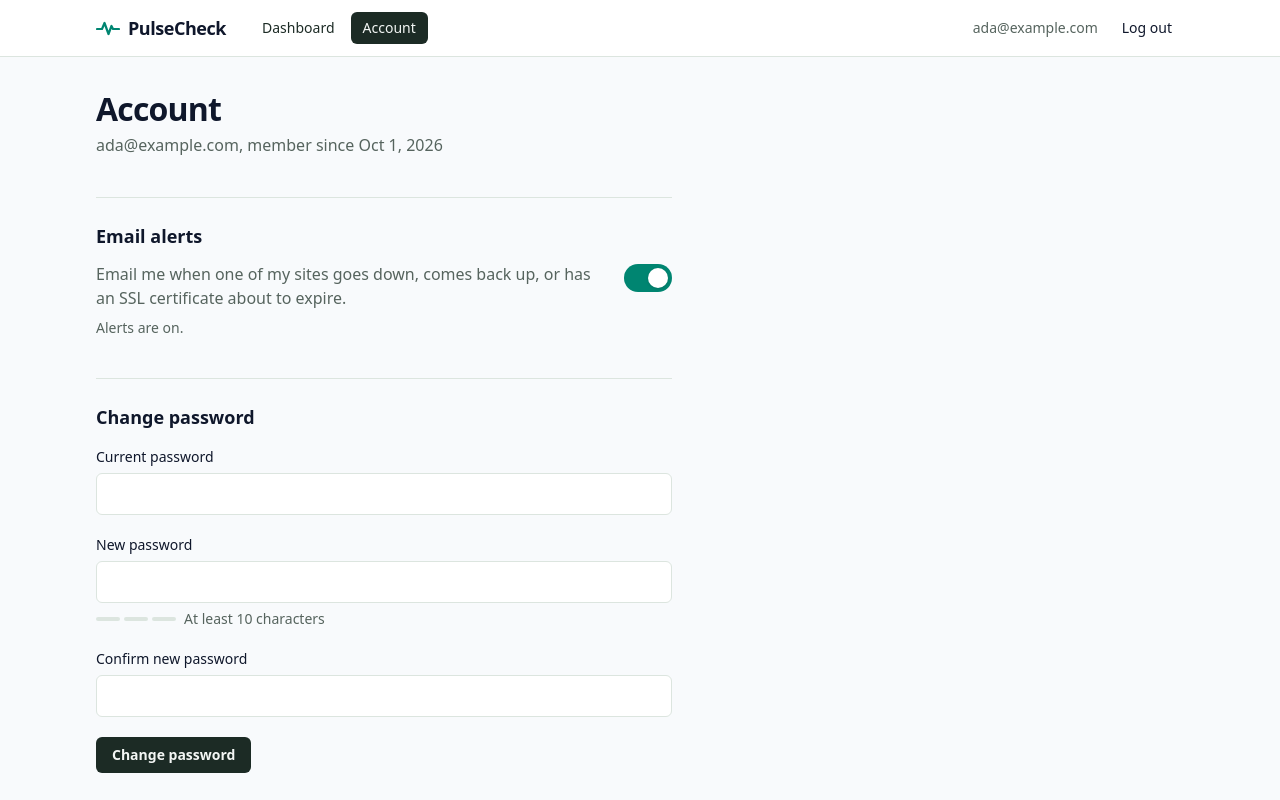
Test case: Account alerts › toggles email alerts
Click the switch named "Email alerts" at (648, 278), box x1=624 y1=264 x2=672 y2=292
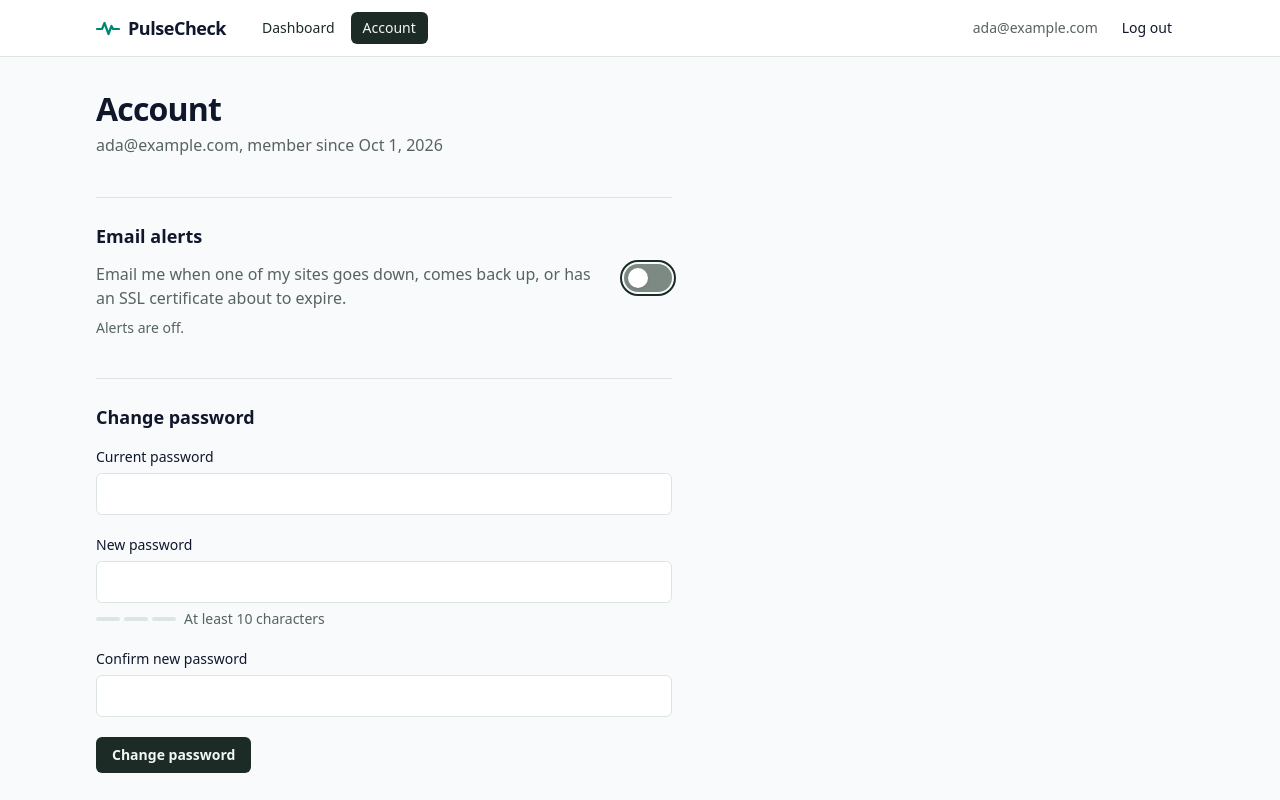
Expected: the text "Alerts are off." is shown, x1=96 y1=318 x2=184 y2=337
